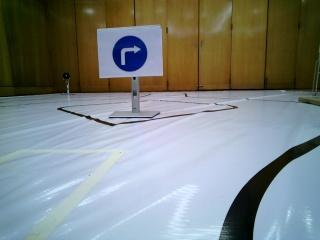right: (99, 28, 162, 76)
